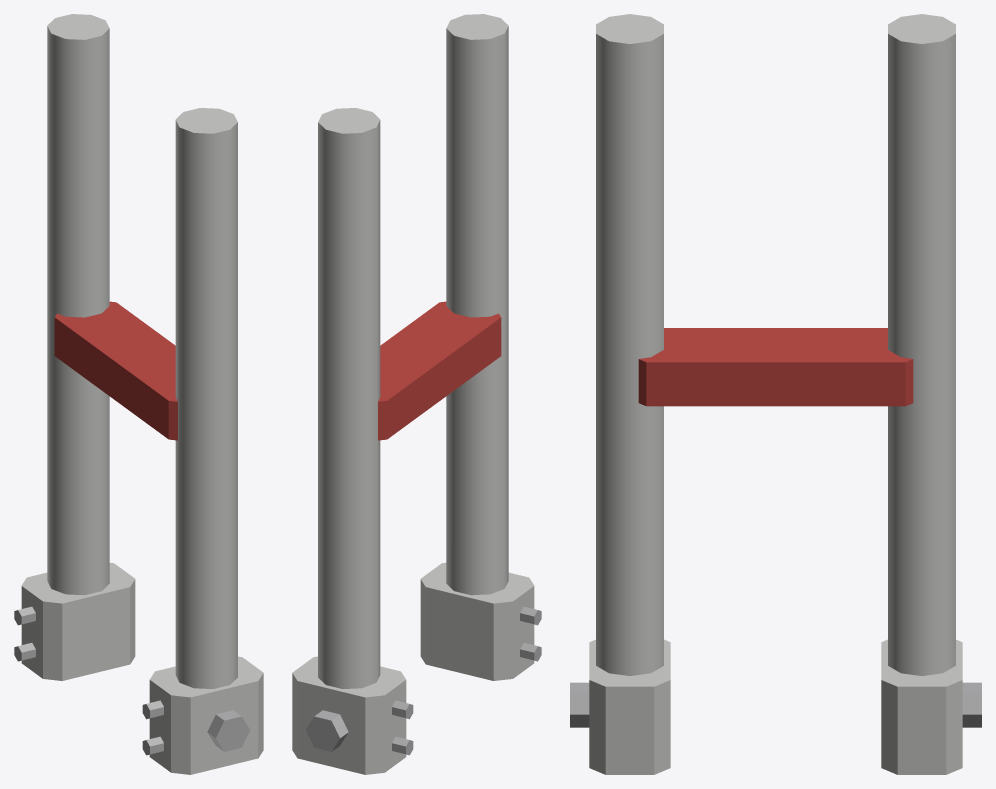
File: adv_black_usd_lower_lod1.glb
The picture shows the model from 3 angles, left to right: view 1: azimuth 30°, elevation 25°; view 2: azimuth 150°, elevation 25°; view 3: azimuth 270°, elevation 25°; orthographic projection. The views are drawn at different scales.
Visible parts, largest first — view 1: adv_black_usd_lower_lod1; view 2: adv_black_usd_lower_lod1; view 3: adv_black_usd_lower_lod1.
Part boxes in pixels (x1,y1,x2,y2): adv_black_usd_lower_lod1: (14,14,263,774); adv_black_usd_lower_lod1: (292,14,541,774); adv_black_usd_lower_lod1: (570,14,981,774).
Size of the model in its own units: 0.0865 by 0.49 by 0.254.
